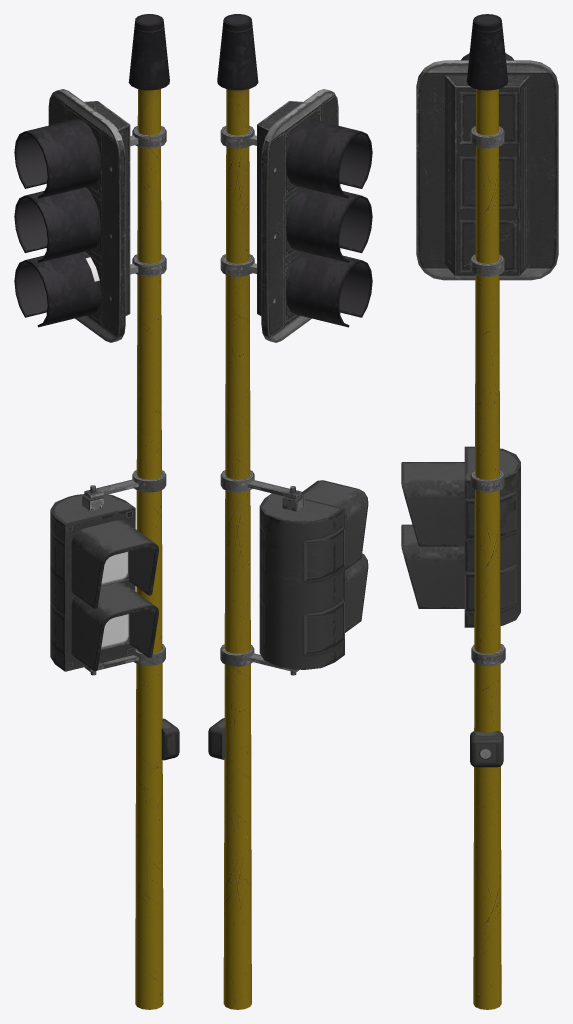
The model's file is PW_Traffic_light_02.fbx.
3 views of the same model, side by side, from view 1: azimuth 30°, elevation 25°; view 2: azimuth 150°, elevation 25°; view 3: azimuth 270°, elevation 25° (orthographic).
Visible parts, largest first — view 1: PW_Traffic_light_02_LOD0; view 2: PW_Traffic_light_02_LOD0; view 3: PW_Traffic_light_02_LOD0.
Part boxes in pixels (box(x1,y1,x2,y2)): PW_Traffic_light_02_LOD0: box(14, 14, 179, 1009); PW_Traffic_light_02_LOD0: box(208, 14, 372, 1009); PW_Traffic_light_02_LOD0: box(401, 14, 558, 1009).
Size of what is drawn, in the model's own units: 70.21 by 467 by 67.61.
